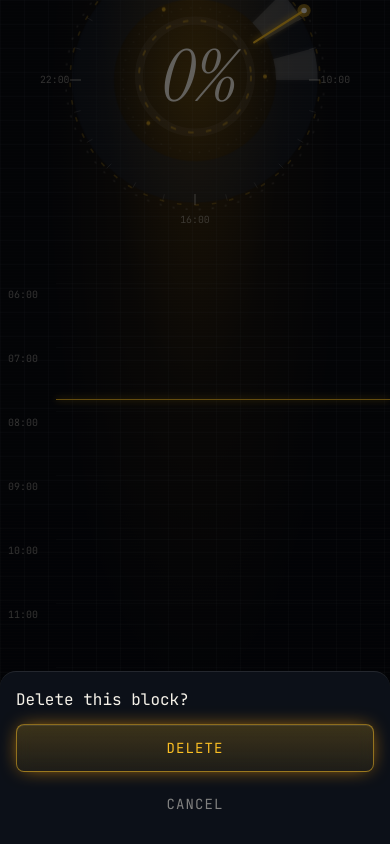
Scenario: C-m5-016: All recurrences removes block template; brick delete removes brick › non-recurring block One-off shows single Delete; Delete removes it
Earlier steps of the test are not shown.
(page scrolled)
Click the button "Delete".
click(195, 748)  # box [16, 724, 374, 772]
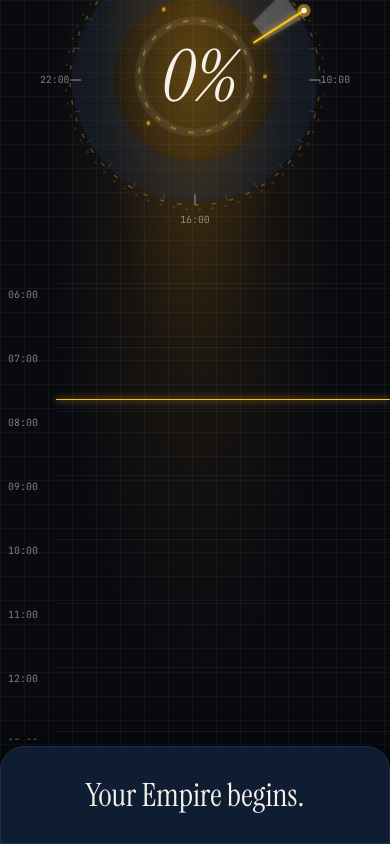
Result: the dialog is gone
